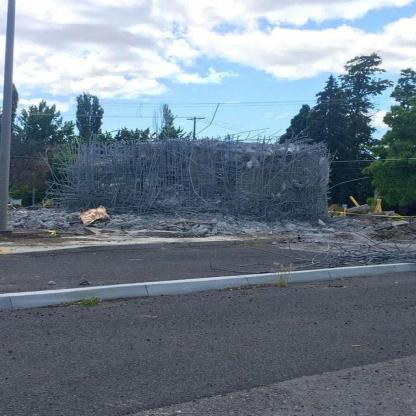rebar: (60, 140, 329, 224)
